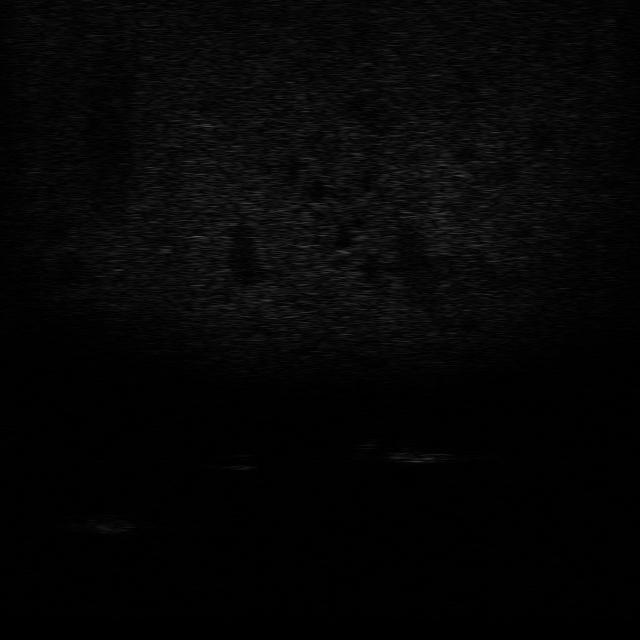ball: (218, 450, 258, 472)
circle cage: (58, 508, 138, 538)
human body: (352, 436, 457, 466)
